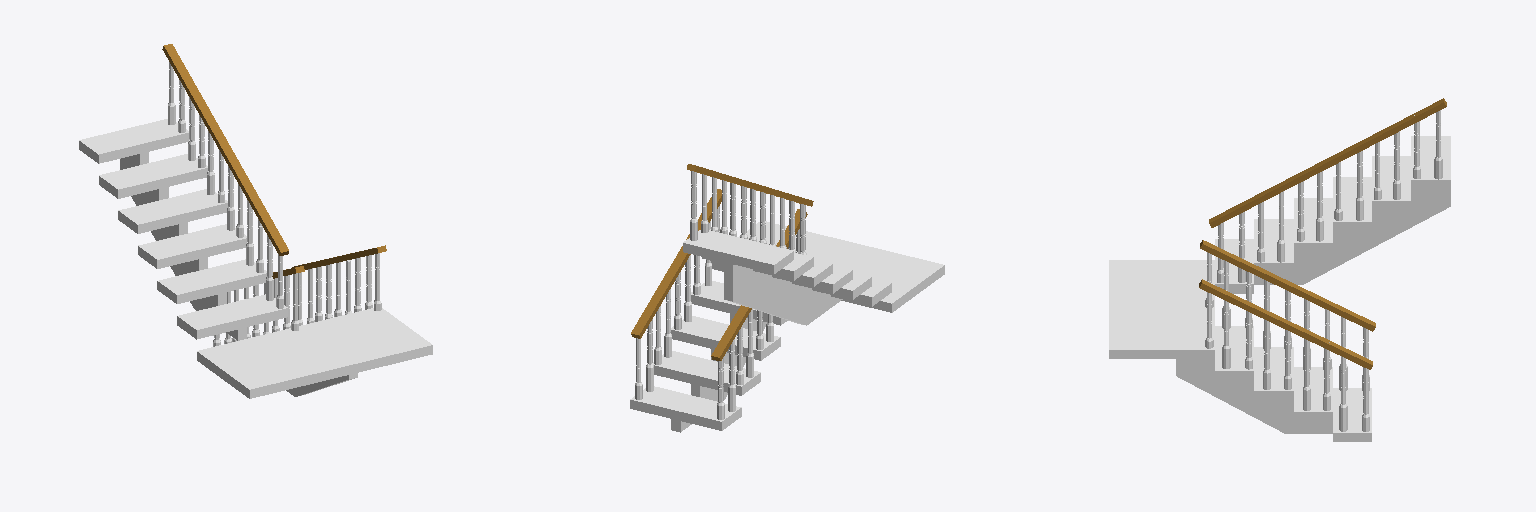
The model's file is StairCase_170.obj.
3 views of the same model, side by side, from view 1: azimuth 30°, elevation 25°; view 2: azimuth 150°, elevation 25°; view 3: azimuth 270°, elevation 25° (orthographic).
Visible parts, largest first — view 1: Stair, Box004, Box001; view 2: Stair, Box001, Box002, Box004; view 3: Stair, Box004, Box002, Box001.
Boxes of the visible parts, x1,y1,x2,y2 form: Stair: [79, 119, 432, 398]; Box004: [162, 44, 288, 255]; Box001: [292, 245, 386, 269]; Stair: [630, 221, 944, 432]; Box001: [631, 189, 721, 338]; Box002: [711, 209, 807, 360]; Box004: [687, 164, 813, 206]; Stair: [1109, 136, 1450, 441]; Box004: [1209, 98, 1446, 227]; Box002: [1200, 240, 1375, 331]; Box001: [1199, 279, 1372, 369].
Bounding box in the file's own units: 60.08 × 95.7 × 96.8.